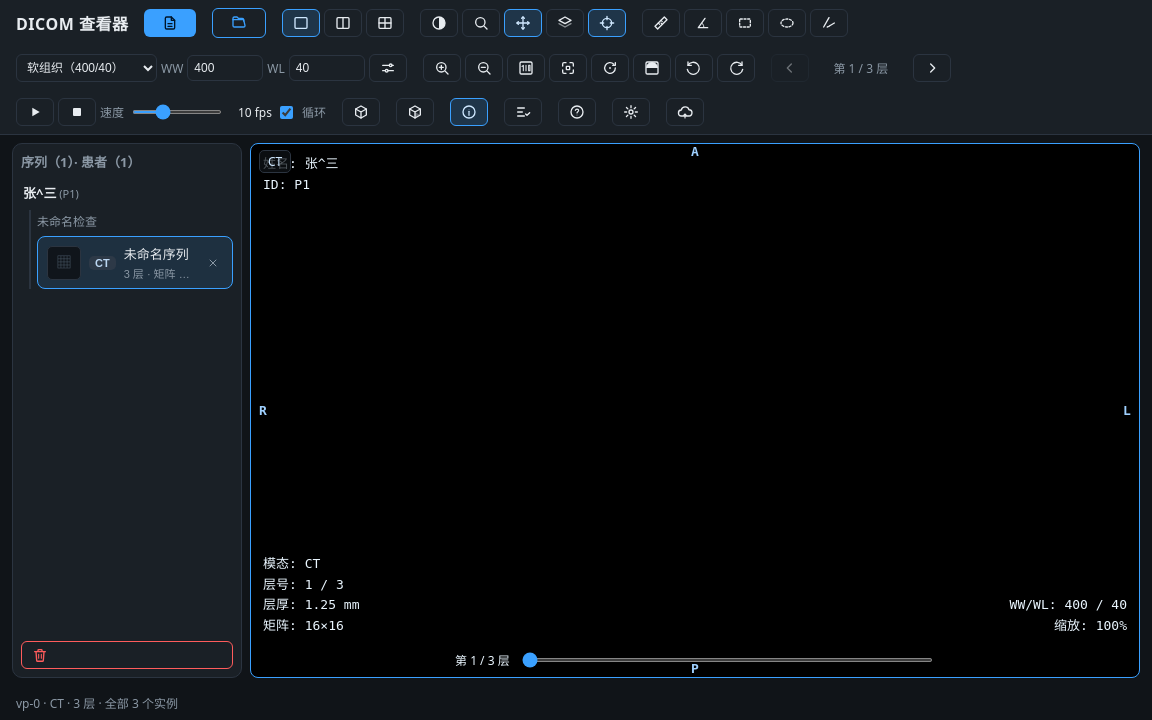
Test: App × MPR 参考线随动（FR-6.10） › 进入 MPR → 退出后，2D 视口绘制 MPR 平面交线叠加层
Click the button named "MPR 多平面重建（单轴向 ⇄ 三平面）" at (361, 112), box [342,98,380,126]
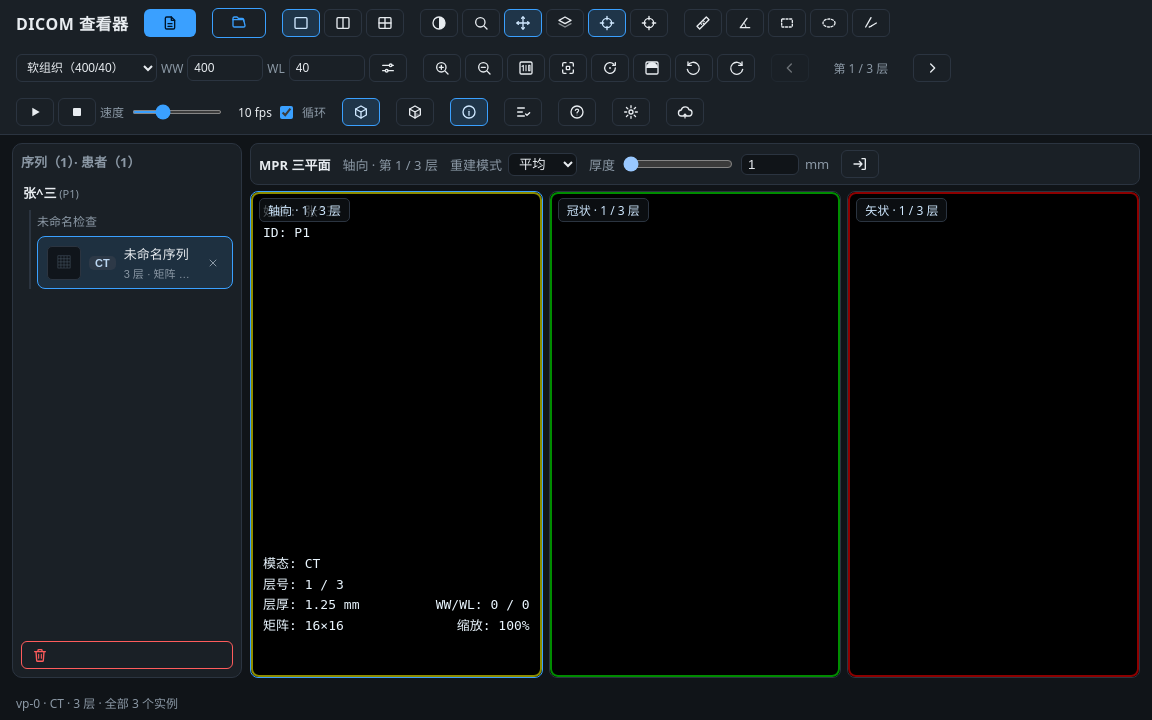
Result: the element with class "mpr-root" is shown at [250,143,1140,678]
# 退出 MPR：捕获轴向 camera.focalPoint [0,0,2] → 2D 视口出现参考线
Click the button named "退出 MPR，返回 2D 布局" at (860, 164), box [841,150,879,178]
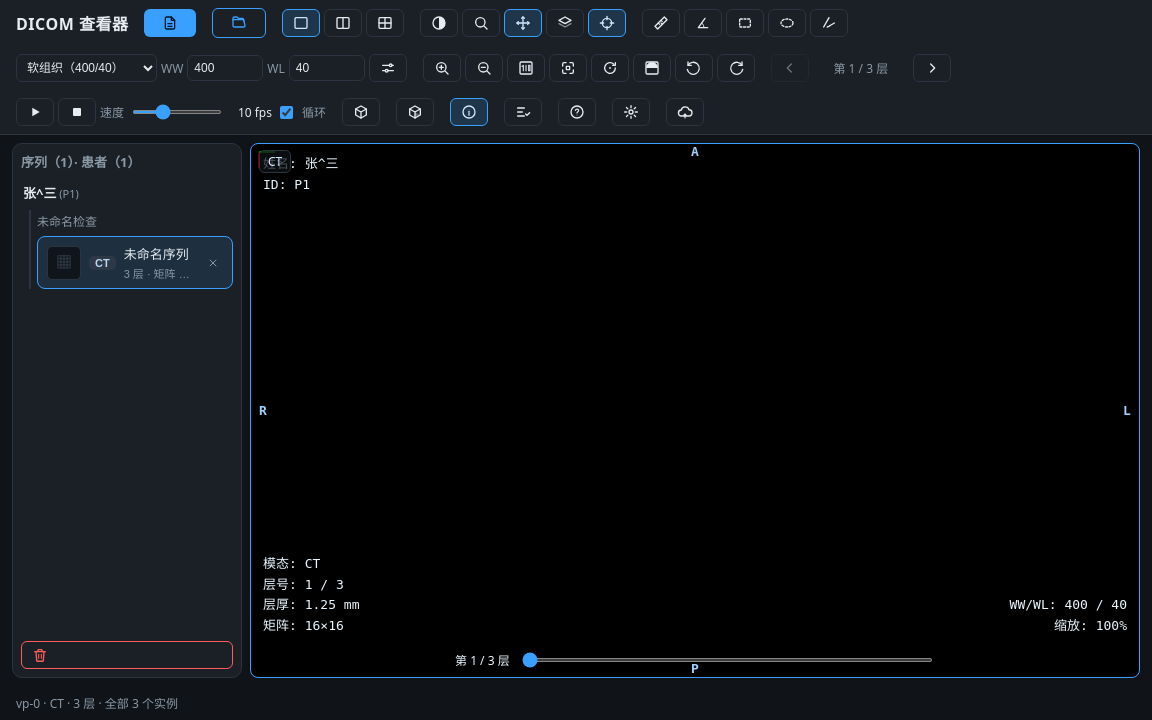
Result: the element with class "reference-lines-overlay" is shown at [251,144,1139,677]
